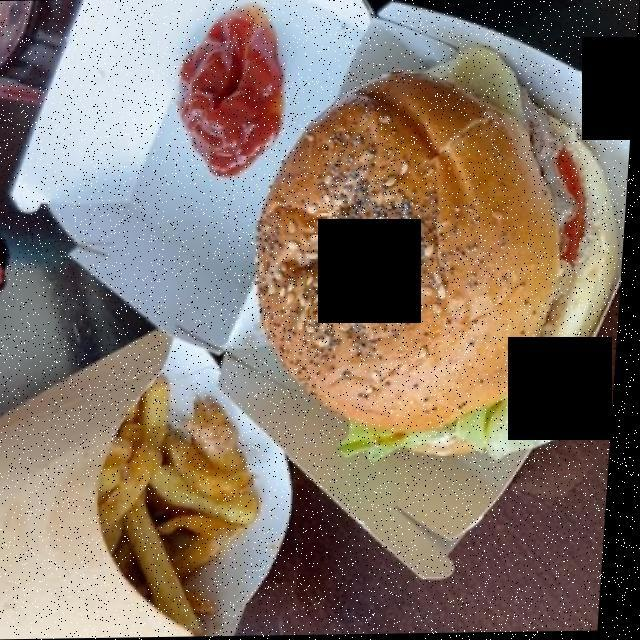chips-french-fries: (105, 377, 267, 627)
hamburger: (261, 49, 612, 451)
ketchup: (178, 14, 284, 170)
